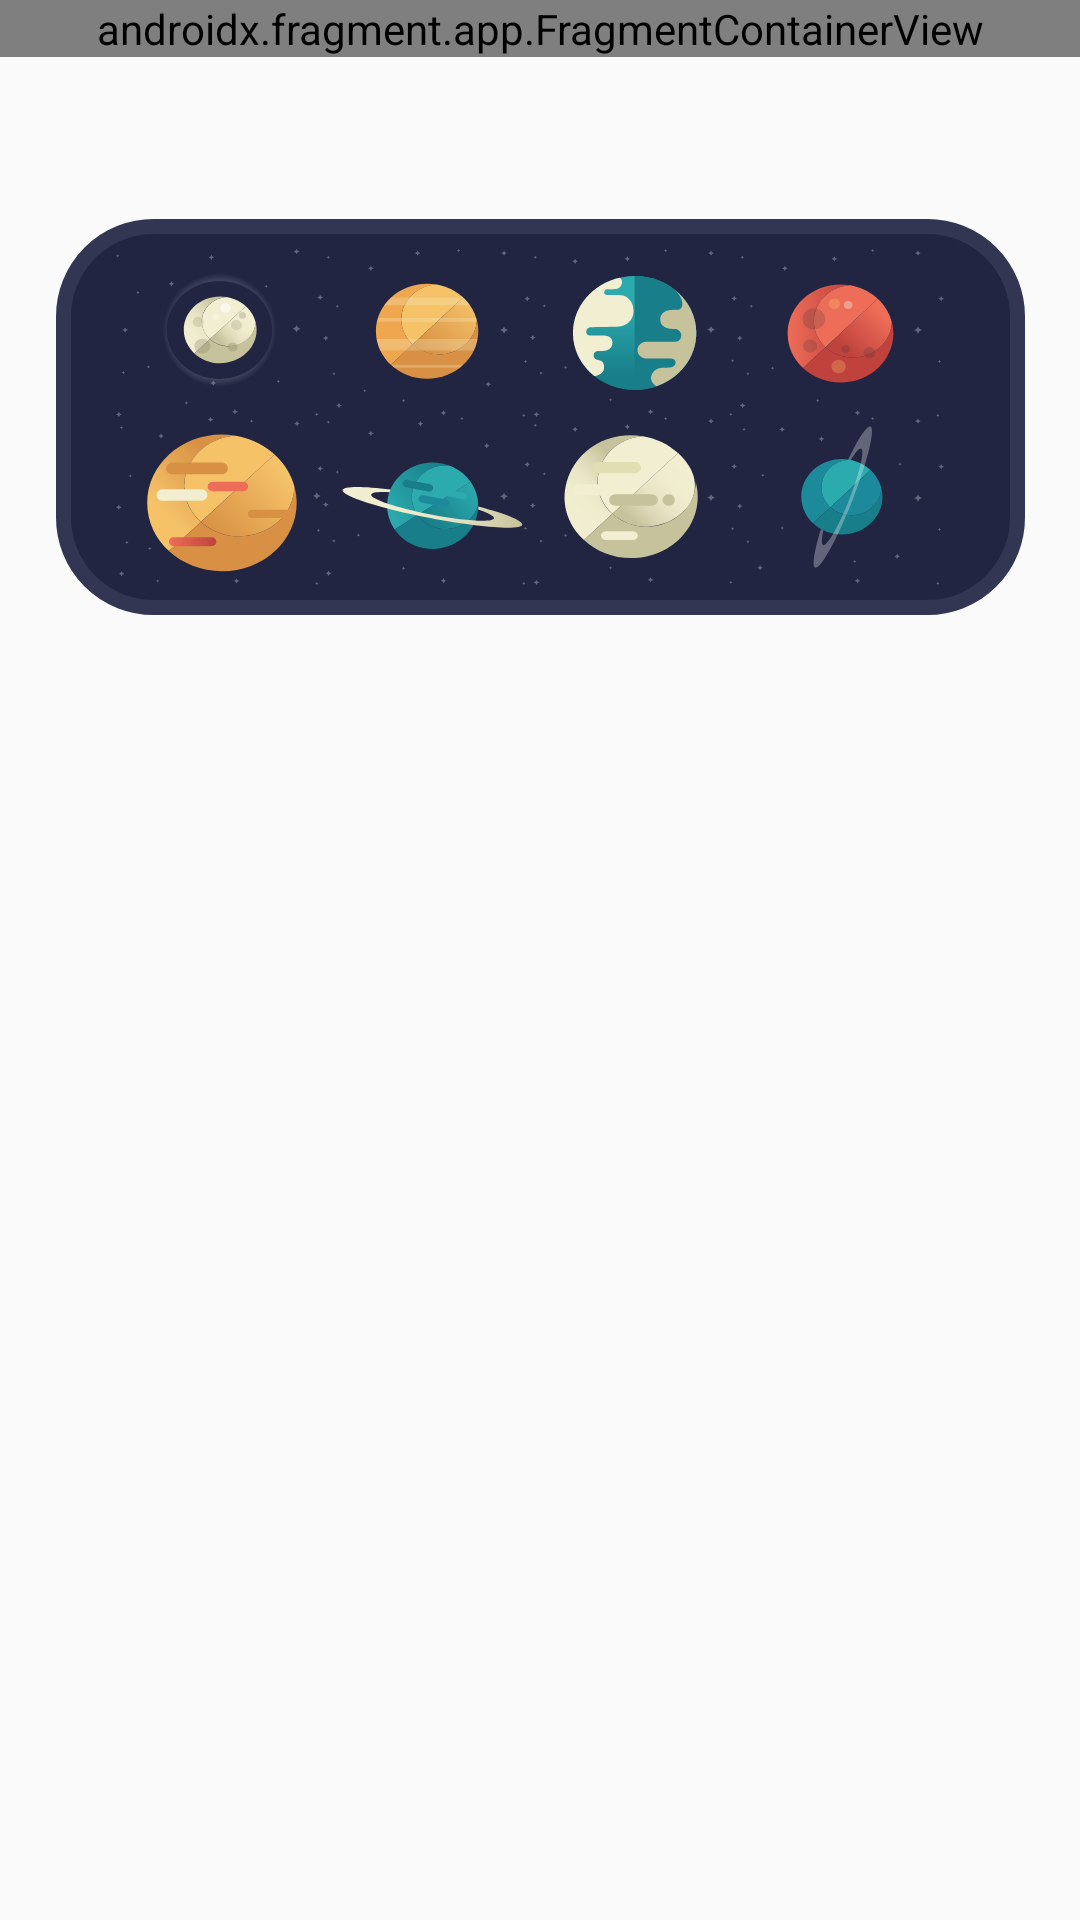

Screen size 1080 x 1920. Icon name, then its center in pixels as point (x, y):
earth: point (633, 333)
jupiter: point (219, 501)
saturn: point (426, 501)
uranus: point (633, 501)
